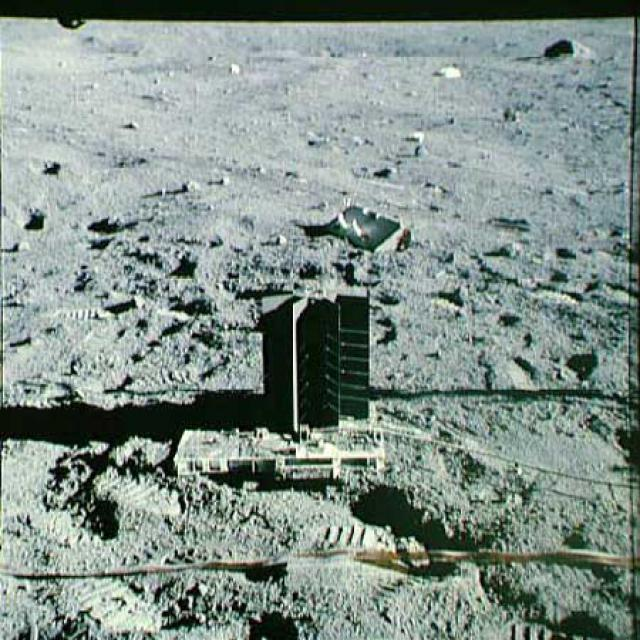crater: (19, 14, 582, 98)
rock: (518, 32, 596, 72), (86, 200, 166, 238), (17, 192, 65, 234), (171, 168, 222, 206)
